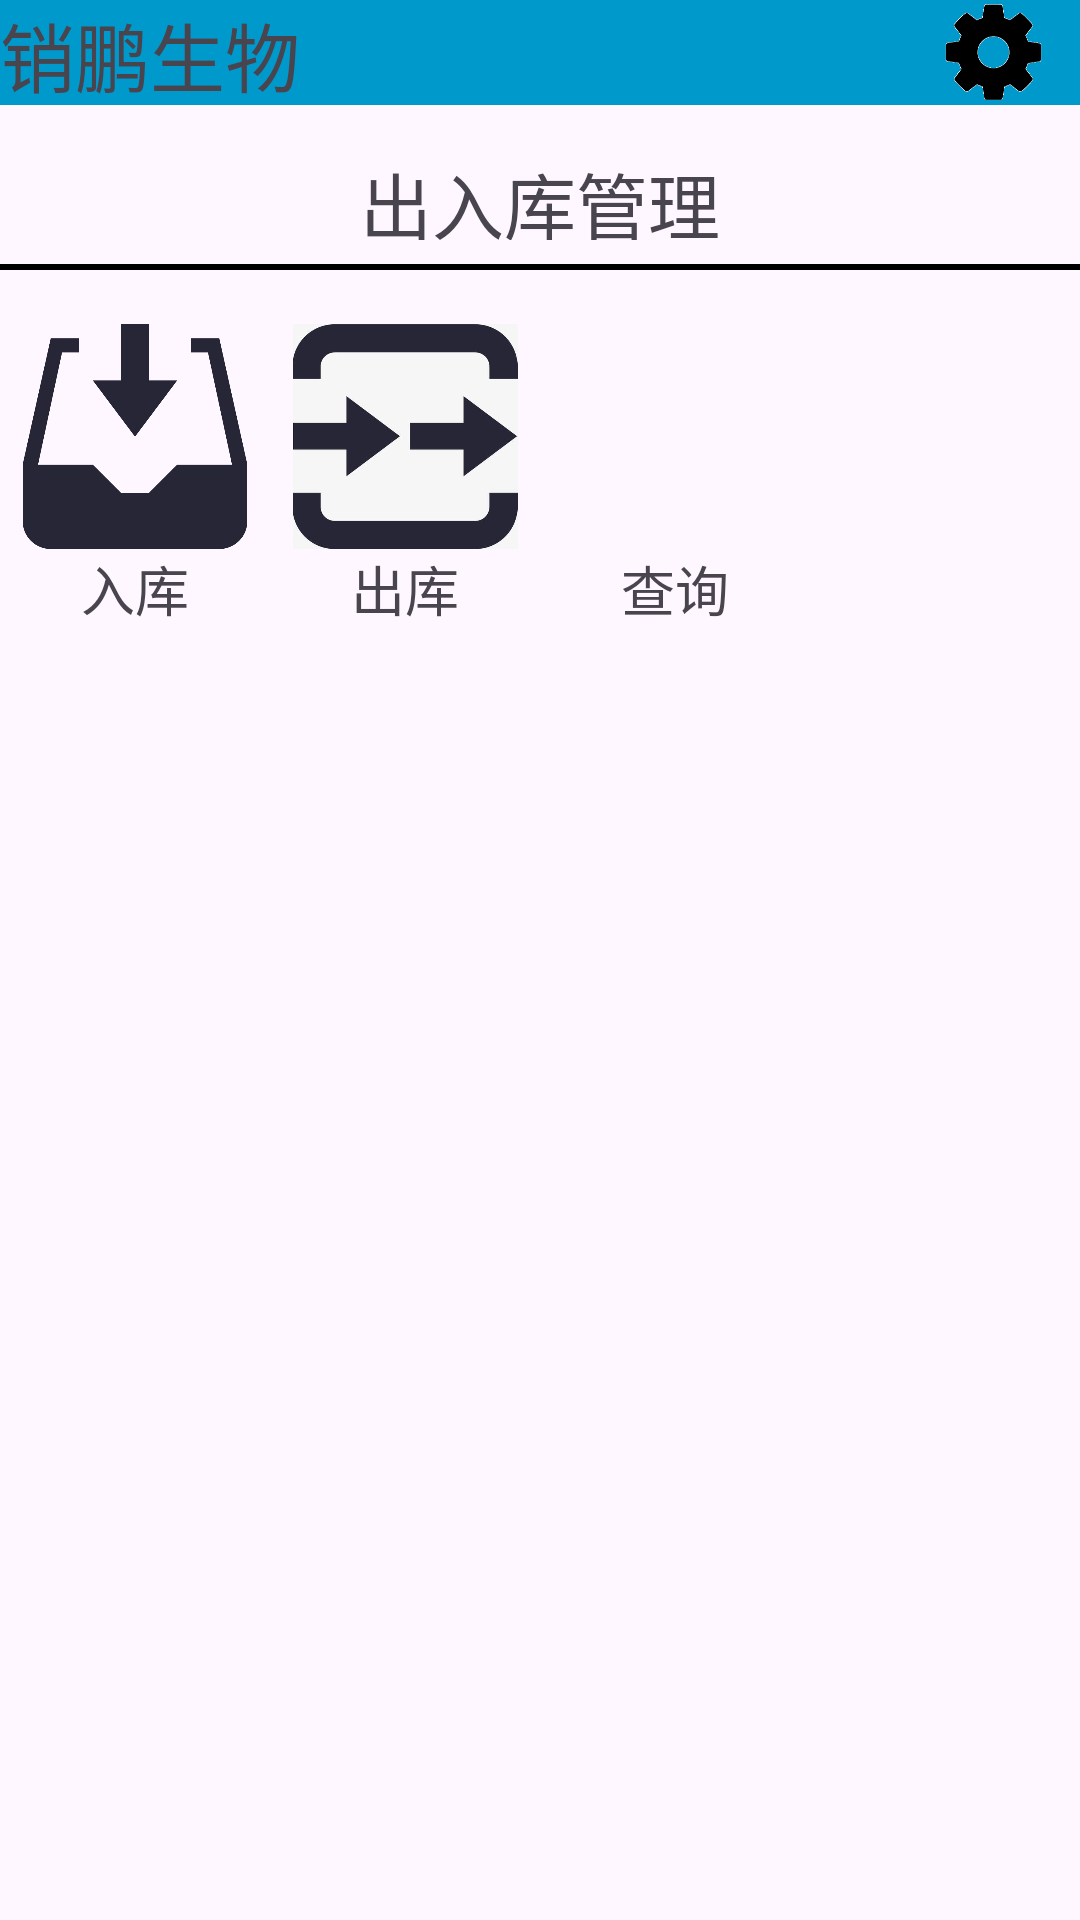

Icon click points for this 1080x1920 phone screenshot, format point (x, y):
set: point (993, 52)
